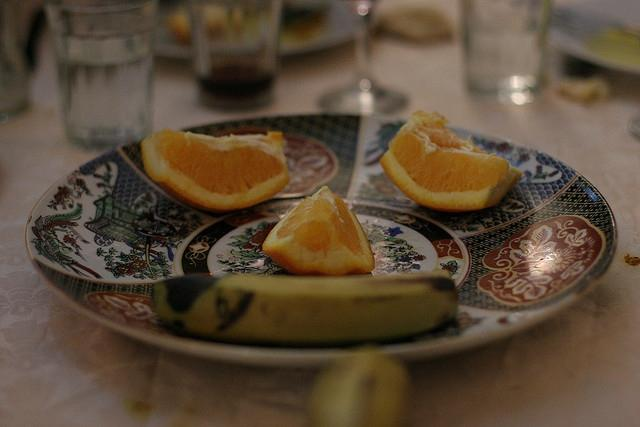banana: (150, 270, 460, 348), (306, 351, 414, 427)
orange: (380, 111, 522, 212), (141, 128, 291, 212), (262, 186, 375, 277), (166, 8, 193, 45)
